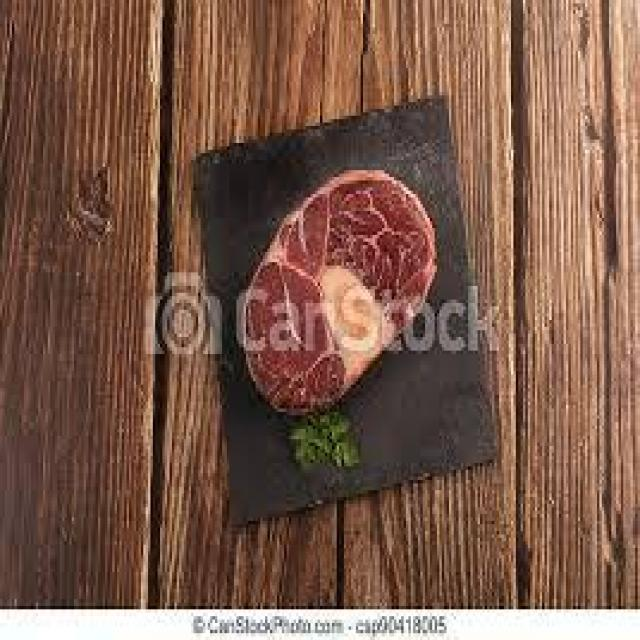beef: (235, 163, 452, 287)
